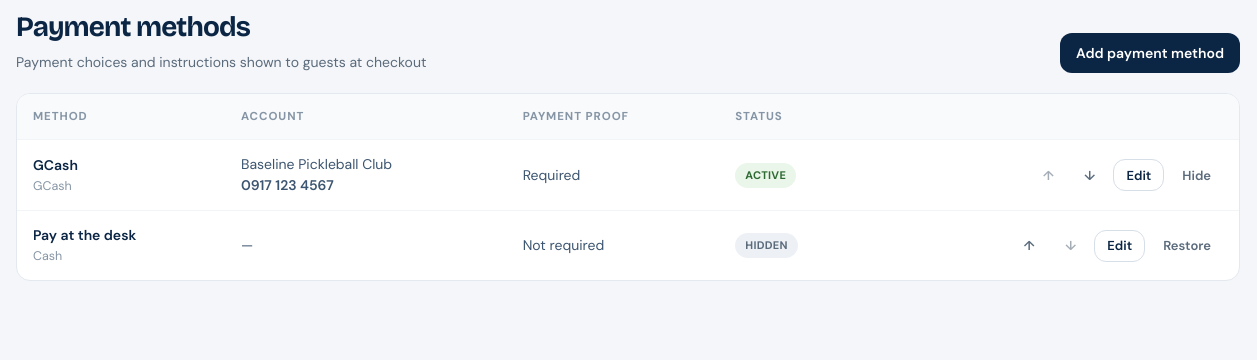
Scenario: PaymentMethodsScreen › shows mutation errors without refreshing stale data
Click the button named "move gcash down": (1090, 175) [1072,159,1108,191]
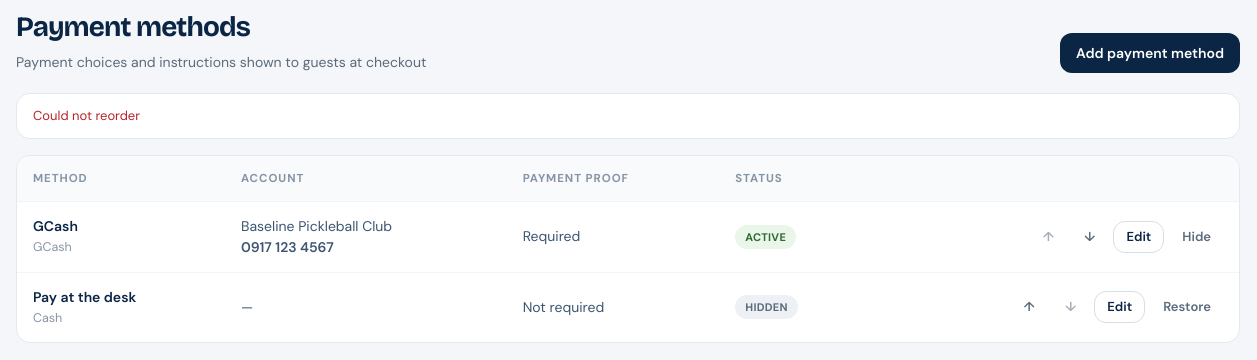
Now the message reads "Could not reorder", box [33,107,140,124]
